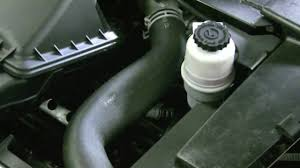radiator_hose: (63, 9, 186, 167)
